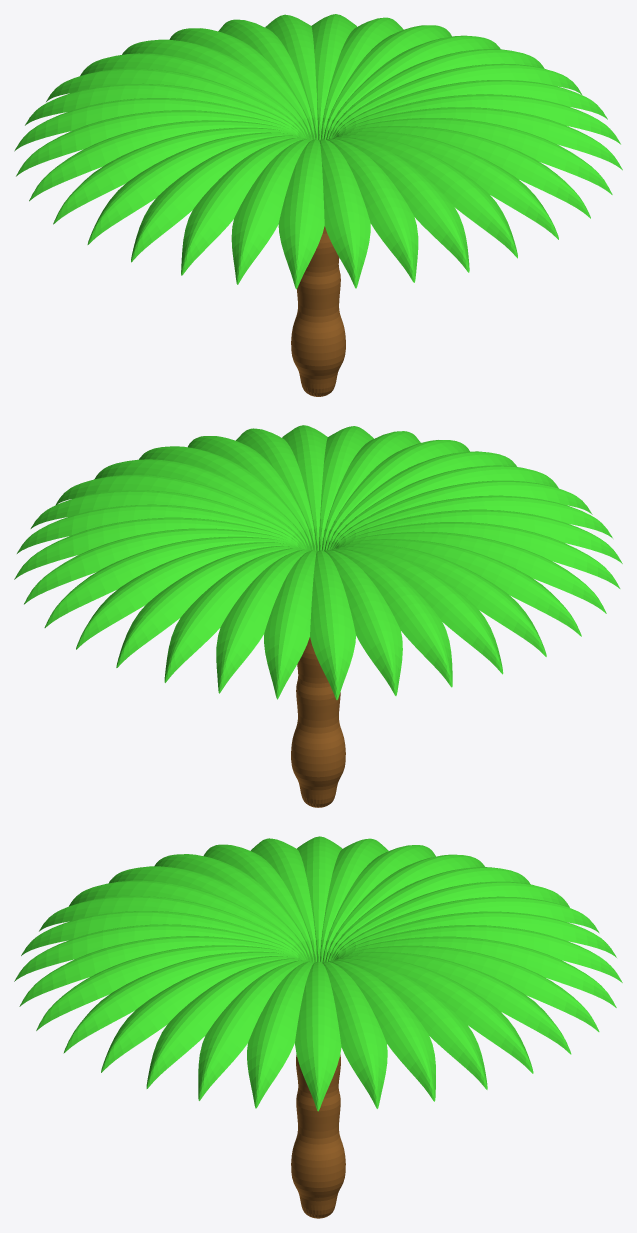
File: tree.fbx
3 views of the same model, one above another, from view 1: azimuth 30°, elevation 25°; view 2: azimuth 150°, elevation 25°; view 3: azimuth 270°, elevation 25° (orthographic).
Visible parts, largest first — view 1: 실린더.011; view 2: 실린더.011; view 3: 실린더.011.
Part boxes in pixels (x1,y1,x2,y2): 실린더.011: (14, 14, 622, 396); 실린더.011: (14, 425, 622, 807); 실린더.011: (14, 836, 622, 1218).
Size of the model in its own units: 5146 by 2707 by 5145.
